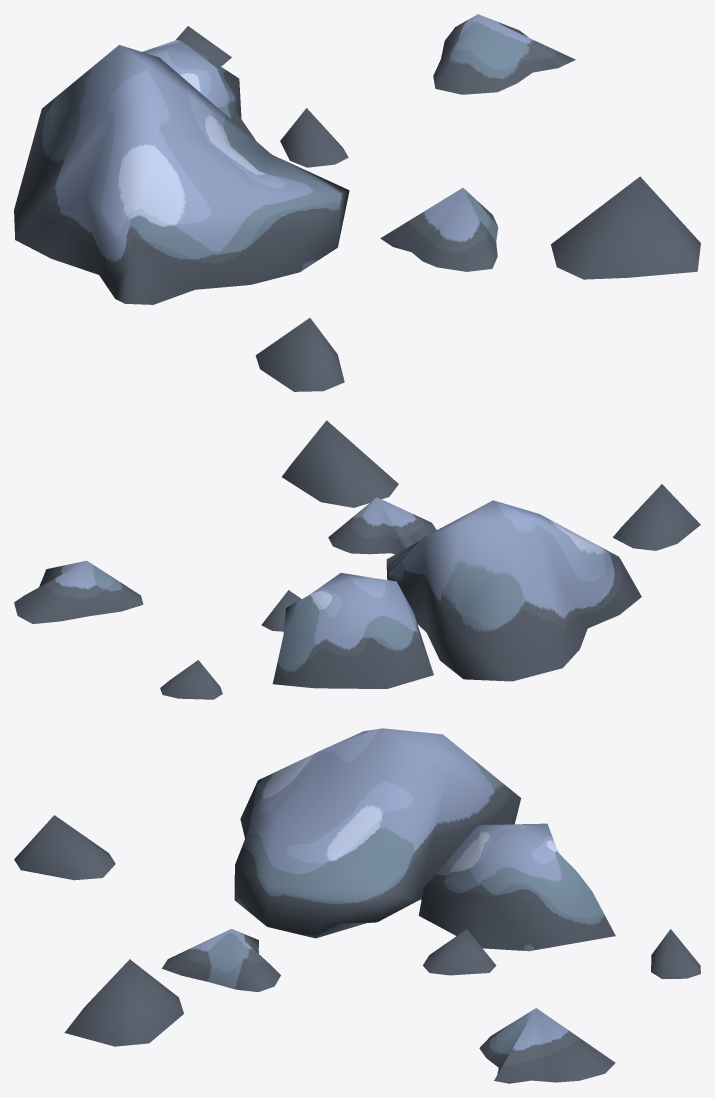
The model's file is Rock 2x 2 3_preview_3DS_simplified.glb.
3 renders of one model, top to bottom at view 1: azimuth 30°, elevation 25°; view 2: azimuth 150°, elevation 25°; view 3: azimuth 270°, elevation 25°, orthographic. The views are drawn at different scales.
Parts seen in each view (by area): view 1: Marine Park Empire model; view 2: Marine Park Empire model; view 3: Marine Park Empire model.
Part boxes in pixels (box(x1,y1,x2,y2)): Marine Park Empire model: box(14, 14, 700, 391); Marine Park Empire model: box(14, 420, 700, 699); Marine Park Empire model: box(14, 728, 700, 1083).
Bounding box in the file's own units: 56.25 × 14.85 × 62.99.
1 material, 1 textured.
